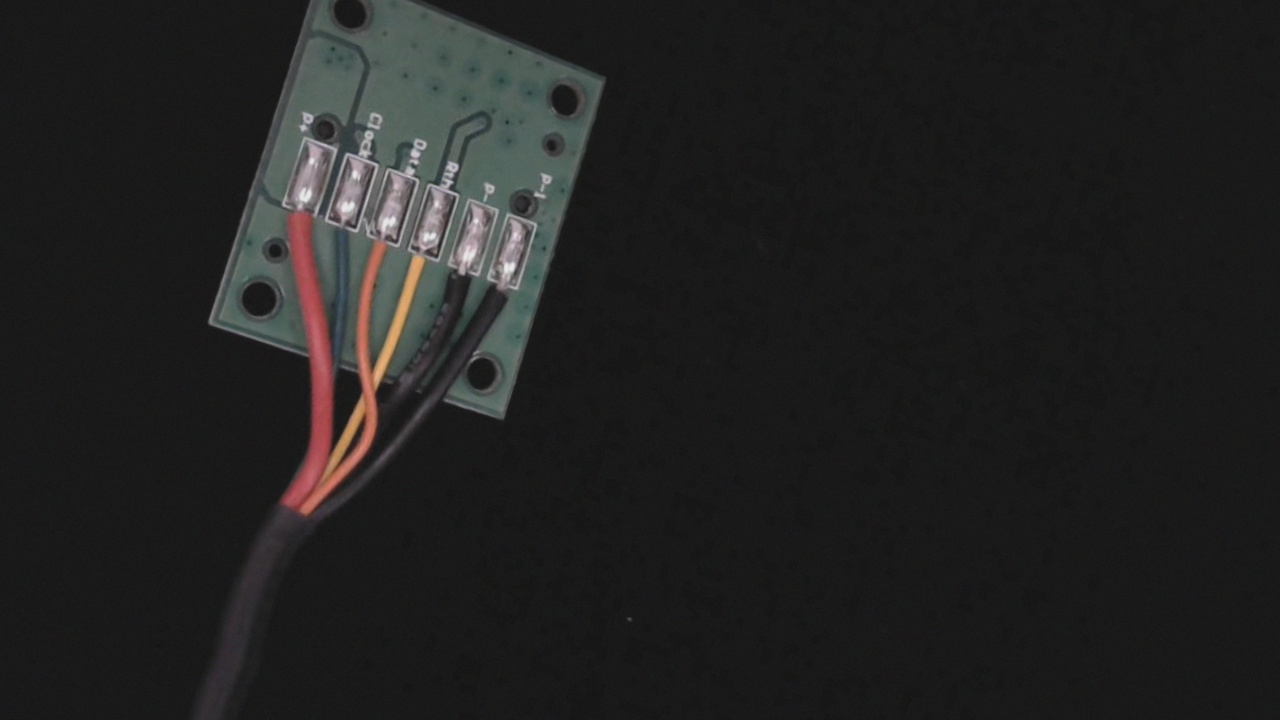Black: (427, 242, 488, 332)
Black1: (470, 259, 528, 342)
Green: (309, 193, 369, 280)
Orange: (347, 213, 406, 301)
Red: (265, 183, 325, 270)
Yellow: (387, 229, 449, 320)
